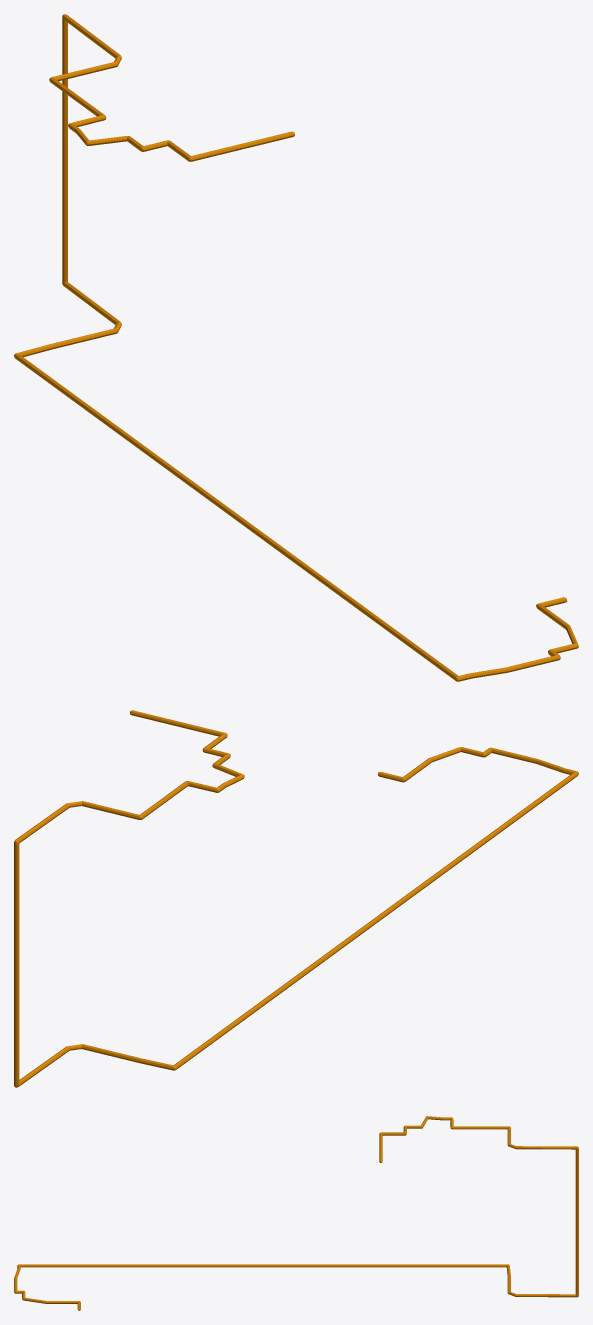
3 renders of one model, top to bottom at view 1: azimuth 30°, elevation 25°; view 2: azimuth 150°, elevation 25°; view 3: azimuth 270°, elevation 25°, orthographic. The views are drawn at different scales.
Size of the model in its own units: 658 by 1020 by 3465.
